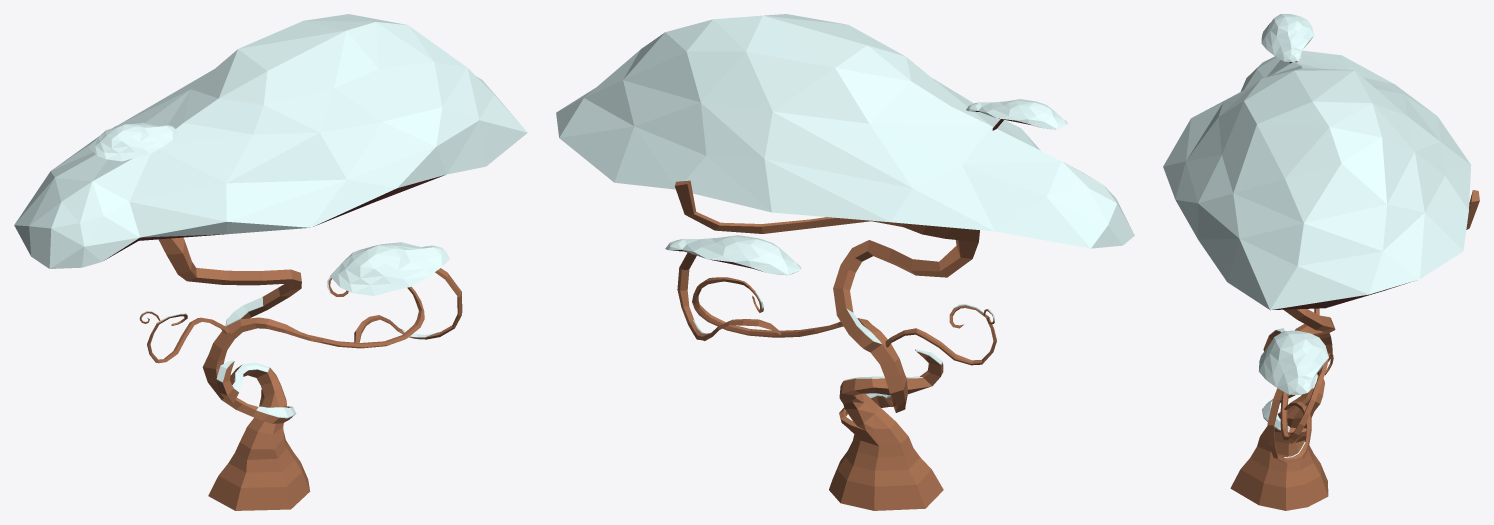
File: Fyfynh.FBX
The picture shows the model from 3 angles, left to right: view 1: azimuth 30°, elevation 25°; view 2: azimuth 150°, elevation 25°; view 3: azimuth 270°, elevation 25°; orthographic projection. The views are drawn at different scales.
Parts seen in each view (by area): view 1: Fyfynh; view 2: Fyfynh; view 3: Fyfynh.
Boxes of the visible parts, bbox=[...] form: Fyfynh: bbox=[14, 14, 527, 510]; Fyfynh: bbox=[556, 14, 1134, 510]; Fyfynh: bbox=[1163, 14, 1479, 510].
Bounding box in the file's own units: 7582 × 6333 × 4182.
